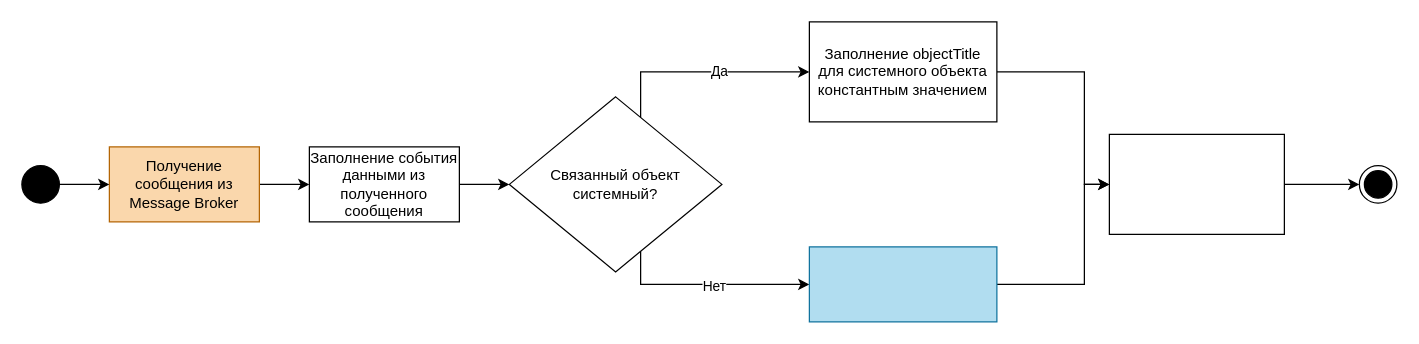
This 1419x344 diagram has some shape labels left out. Here are the shapes that lost their labels. From the top down, the box of each, then its label:
(1108, 133, 1284, 234): Сохранение события в БД
(808, 246, 997, 322): Запрос к data-api на получение значения objectTitle
